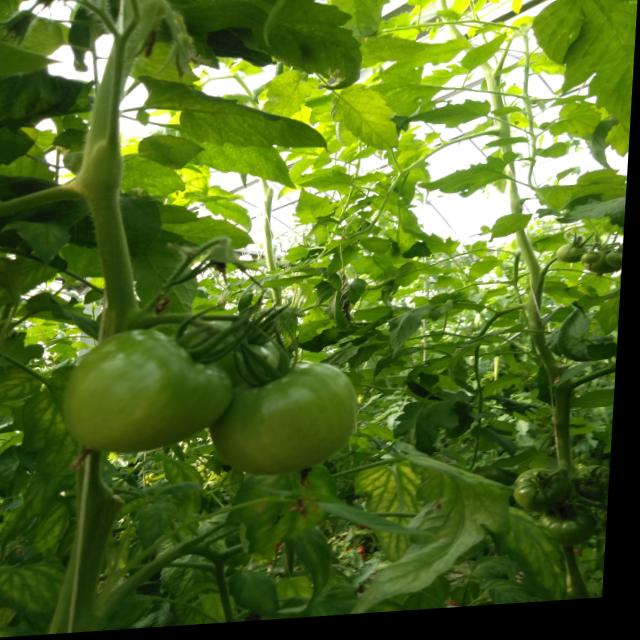yesil: (75, 261, 370, 507)
